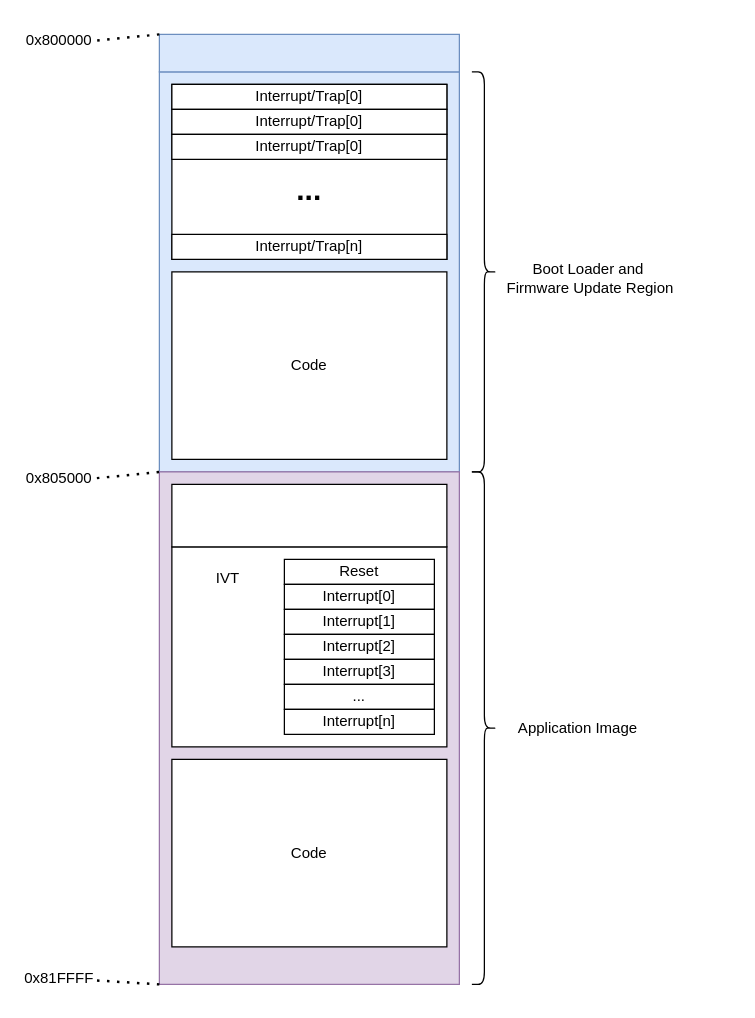
The diagram is 755 pixels wide and 1018 high, and some of its shapes have lost their labels. Here are the shapes that lost their labels. From the top down, the centre of each, then its label:
(x=308, y=52): ResetVector
(x=309, y=515): Application Header
